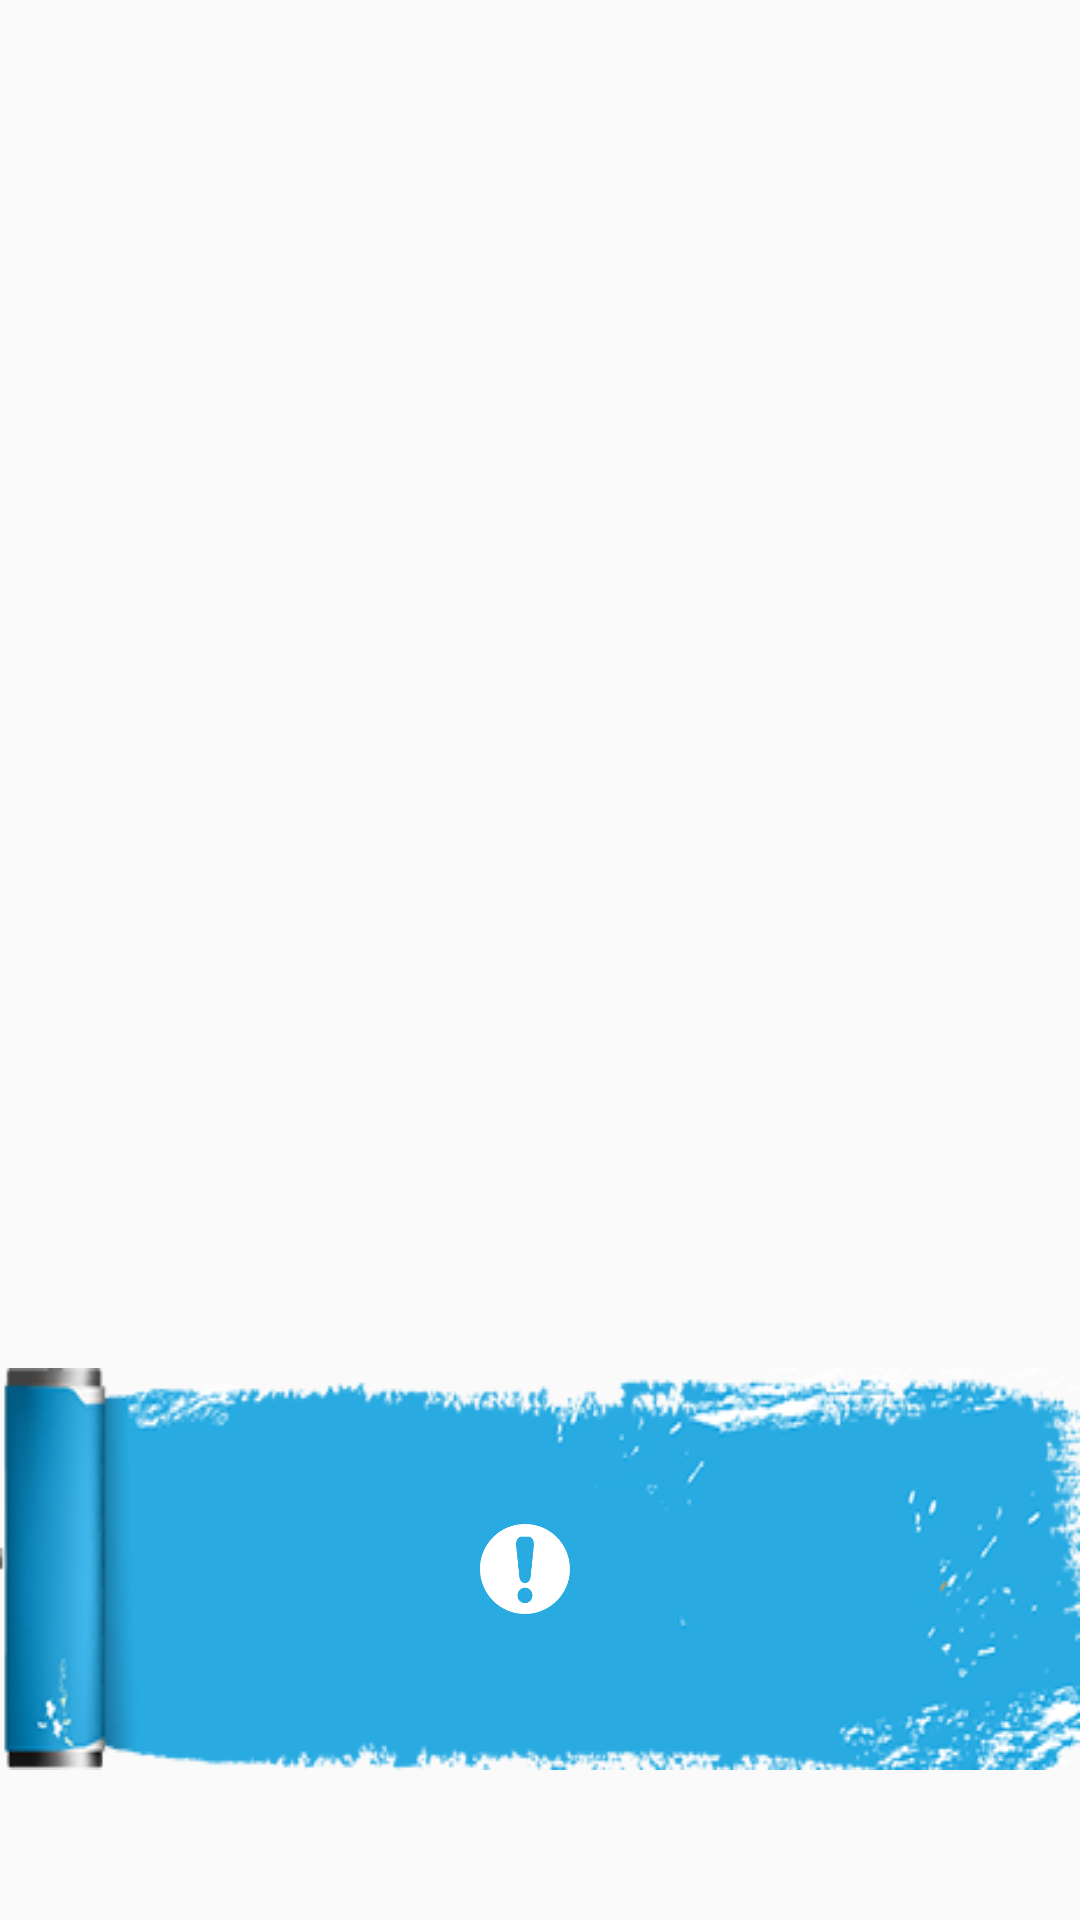

Icon click points for this 1080px x 1920px phone screenshot, format point (x, y):
toast tips: point (525, 1569)
